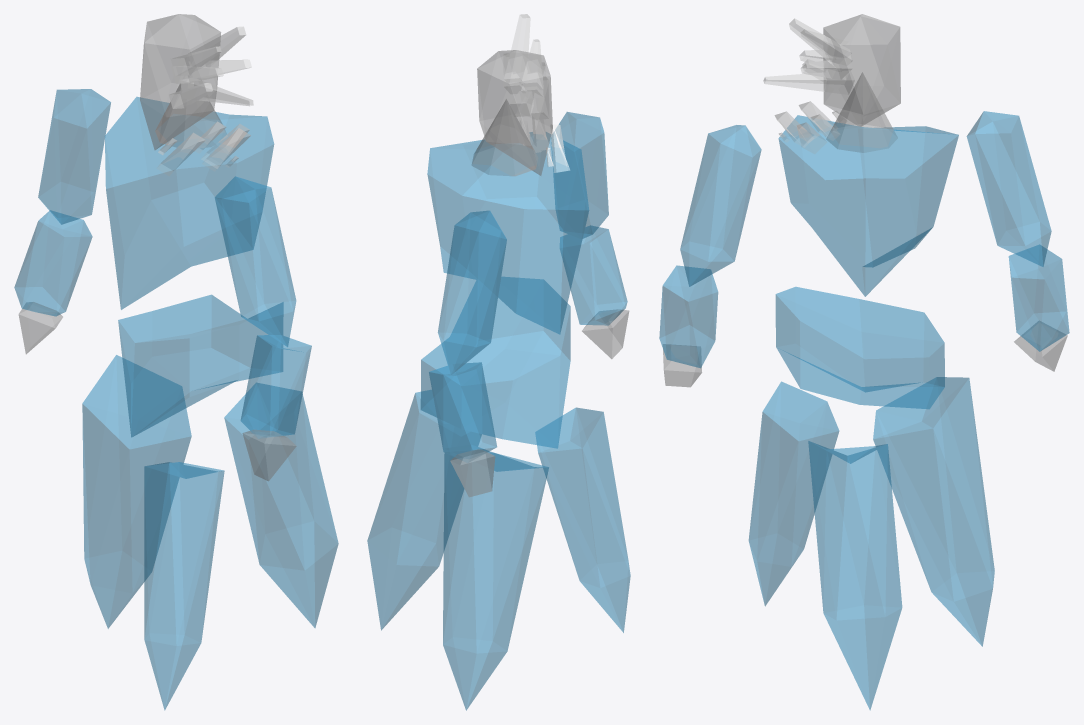
Rendered from ghostIdle6.obj.
3 views of the same model, side by side, from view 1: azimuth 30°, elevation 25°; view 2: azimuth 150°, elevation 25°; view 3: azimuth 270°, elevation 25° (orthographic). The views are drawn at different scales.
Visible parts, largest first — view 1: Cube.001_Cube.001, Icosphere.005, Icosphere.004, Cube_Cube.002, Icosphere.003, Icosphere.005_Icosphere.001, Icosphere.003_Icosphere.001, Icosphere.007_Icosphere.001, Icosphere.006_Icosphere.001, Icosphere.008_Icosphere.001, Cone_Cone.002, Cube.002_Cube.001 (+8 smaller); view 2: Cube.001_Cube.001, Cube_Cube.002, Icosphere.005, Icosphere.004, Icosphere.003, Icosphere.007_Icosphere.001, Icosphere.003_Icosphere.001, Icosphere.005_Icosphere.001, Icosphere.008_Icosphere.001, Icosphere.006_Icosphere.001, Cone_Cone.002, Cube.003_Cube.001 (+6 smaller); view 3: Cube.001_Cube.001, Icosphere.005, Icosphere.004, Cube_Cube.002, Icosphere.003, Icosphere.005_Icosphere.001, Icosphere.007_Icosphere.001, Icosphere.003_Icosphere.001, Icosphere.006_Icosphere.001, Icosphere.008_Icosphere.001, Cone_Cone.002, Cube.003_Cube.001 (+4 smaller).
Boxes of the visible parts, bbox=[...] form: Cube.001_Cube.001: bbox=[105, 97, 274, 309]; Icosphere.005: bbox=[82, 355, 191, 628]; Icosphere.004: bbox=[224, 383, 338, 627]; Cube_Cube.002: bbox=[118, 294, 283, 437]; Icosphere.003: bbox=[144, 462, 224, 710]; Icosphere.005_Icosphere.001: bbox=[215, 176, 296, 346]; Icosphere.003_Icosphere.001: bbox=[140, 14, 220, 149]; Icosphere.007_Icosphere.001: bbox=[38, 89, 110, 224]; Icosphere.006_Icosphere.001: bbox=[240, 335, 311, 438]; Icosphere.008_Icosphere.001: bbox=[14, 210, 92, 316]; Cone_Cone.002: bbox=[155, 84, 226, 147]; Cube.002_Cube.001: bbox=[242, 430, 296, 481]; Cube.001_Cube.001: bbox=[427, 132, 589, 334]; Cube_Cube.002: bbox=[420, 277, 570, 448]; Icosphere.005: bbox=[443, 445, 548, 710]; Icosphere.004: bbox=[367, 390, 481, 630]; Icosphere.003: bbox=[535, 407, 630, 632]; Icosphere.007_Icosphere.001: bbox=[438, 210, 506, 374]; Icosphere.003_Icosphere.001: bbox=[477, 50, 552, 175]; Icosphere.005_Icosphere.001: bbox=[552, 112, 608, 238]; Icosphere.008_Icosphere.001: bbox=[429, 362, 496, 462]; Icosphere.006_Icosphere.001: bbox=[560, 225, 627, 325]; Cone_Cone.002: bbox=[472, 99, 536, 176]; Cube.003_Cube.001: bbox=[450, 449, 495, 497]; Cube.001_Cube.001: bbox=[778, 115, 958, 296]; Icosphere.005: bbox=[873, 377, 994, 646]; Icosphere.004: bbox=[808, 441, 902, 710]; Cube_Cube.002: bbox=[775, 287, 944, 409]; Icosphere.003: bbox=[748, 381, 839, 606]; Icosphere.005_Icosphere.001: bbox=[680, 125, 761, 286]; Icosphere.007_Icosphere.001: bbox=[966, 111, 1051, 266]; Icosphere.003_Icosphere.001: bbox=[823, 14, 900, 126]; Icosphere.006_Icosphere.001: bbox=[659, 265, 718, 368]; Icosphere.008_Icosphere.001: bbox=[1008, 245, 1069, 351]; Cone_Cone.002: bbox=[826, 72, 897, 152]; Cube.003_Cube.001: bbox=[1014, 321, 1067, 371].
Bounding box in the file's own units: 16.97 × 47.85 × 27.63.
